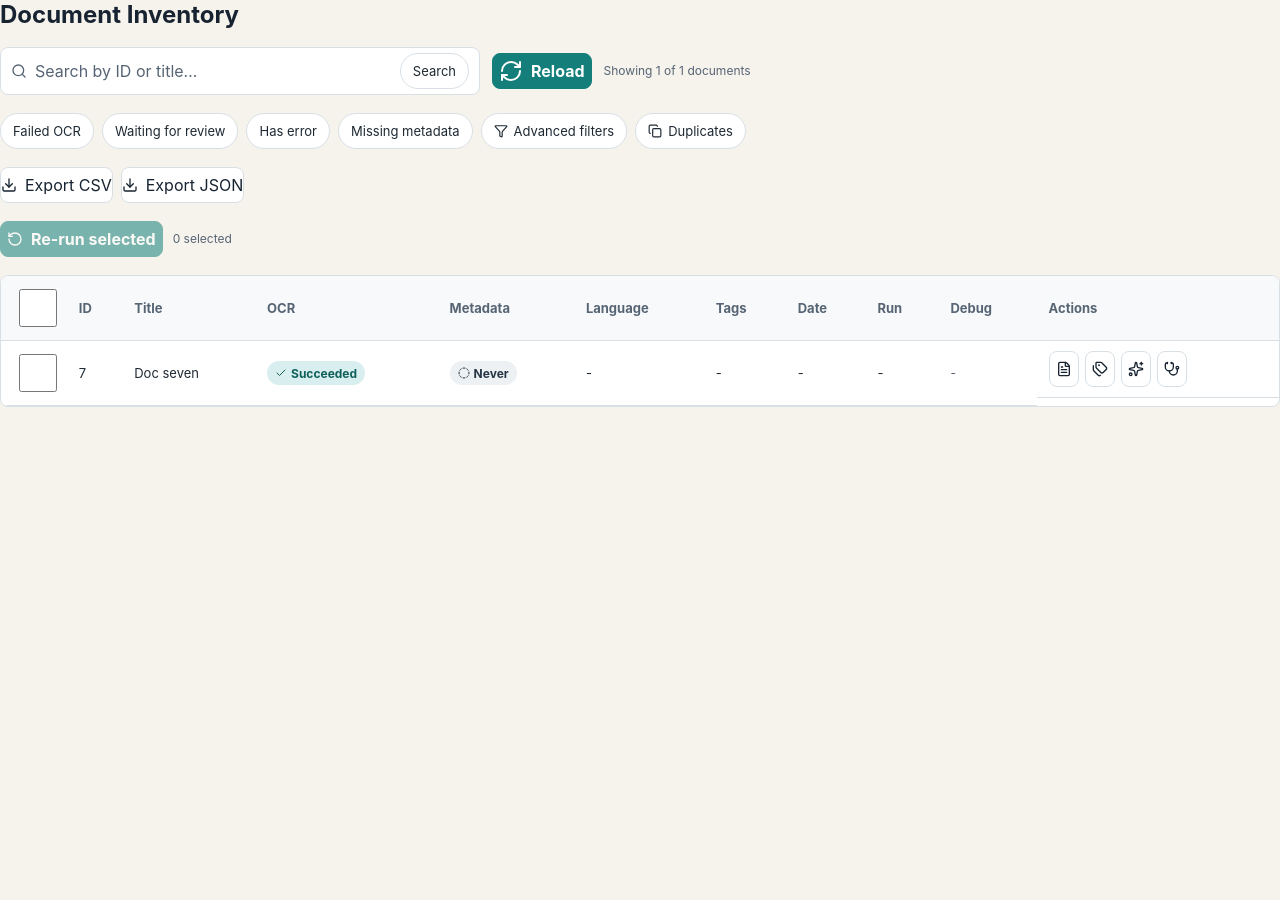
Scenario: <Inventory> diagnose error handling (#432) › shows the "no run yet" state for a 404 ApiError, whatever its message
This screenshot has width=1280, height=900.
Click the button titled "Diagnose metadata" at (1172, 369), box [1157,351,1187,387]
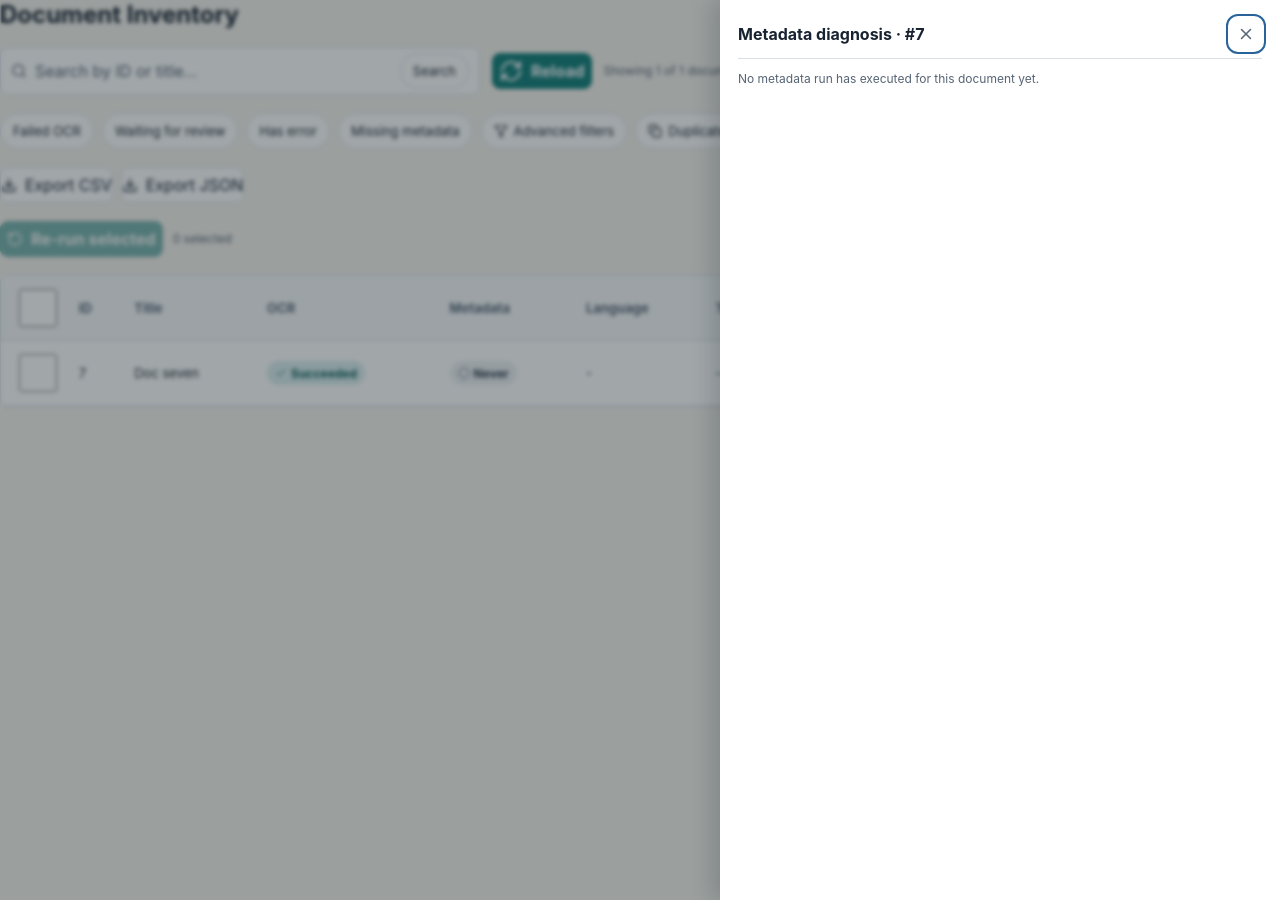
Now the text "No metadata run has executed for this document yet." is shown, box [738,71,1039,86]
